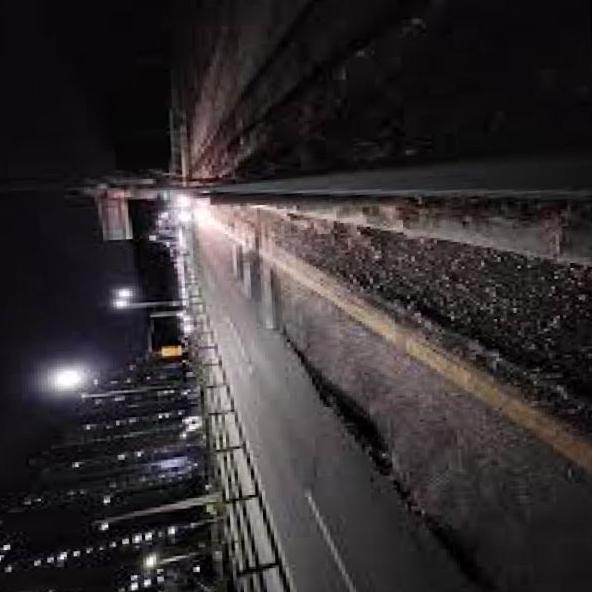pothole: (263, 331, 387, 457), (385, 426, 512, 528)
